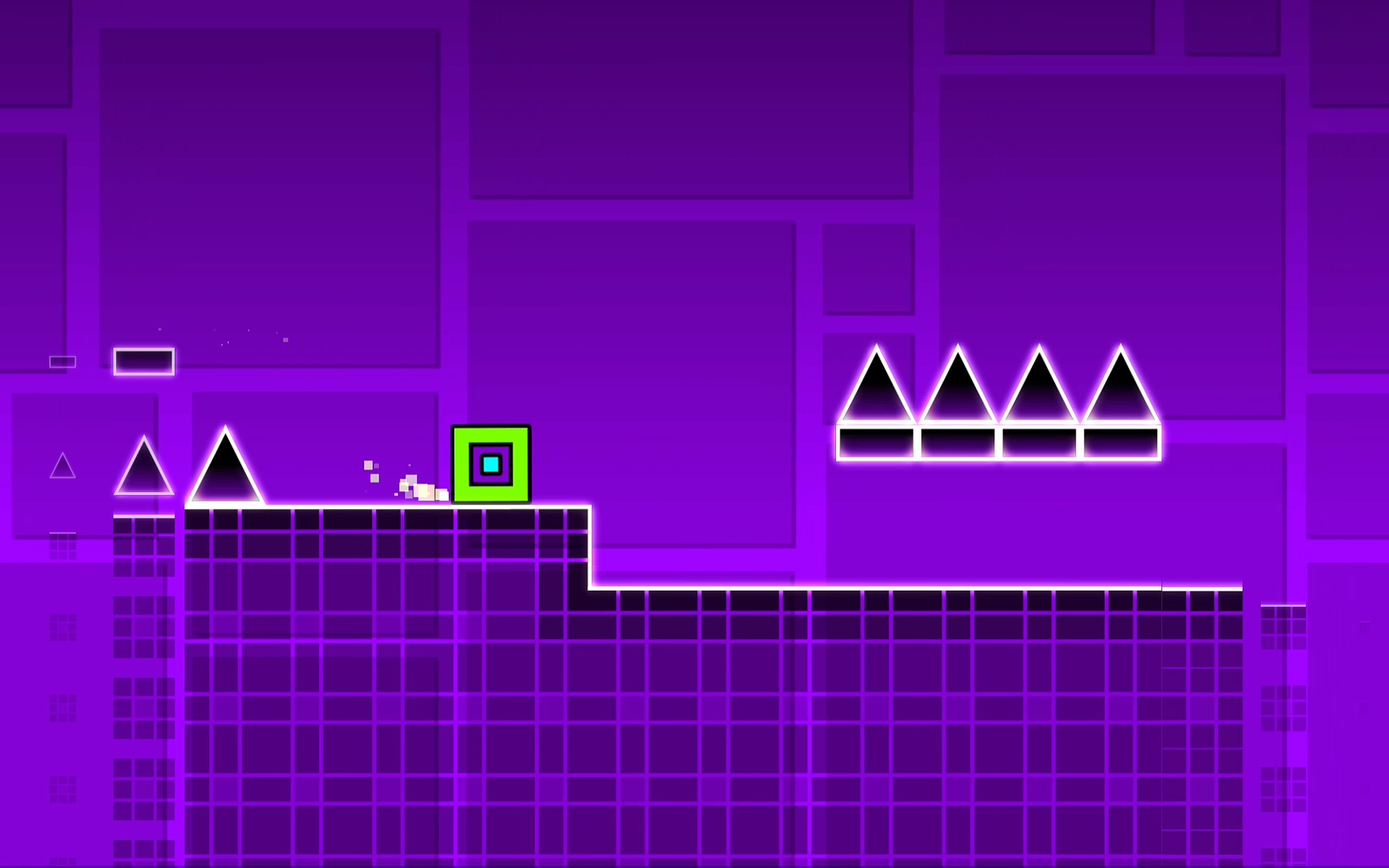Block2: (592, 588, 1310, 868), (104, 507, 586, 864)
Block3: (920, 420, 1002, 464), (1001, 419, 1082, 463), (1082, 423, 1165, 464), (834, 427, 913, 457), (113, 347, 174, 375)
Player: (449, 424, 531, 501)
Spike: (835, 344, 912, 423), (187, 426, 263, 504), (1084, 346, 1159, 421), (921, 345, 993, 420), (1003, 346, 1076, 419), (113, 435, 174, 495)
